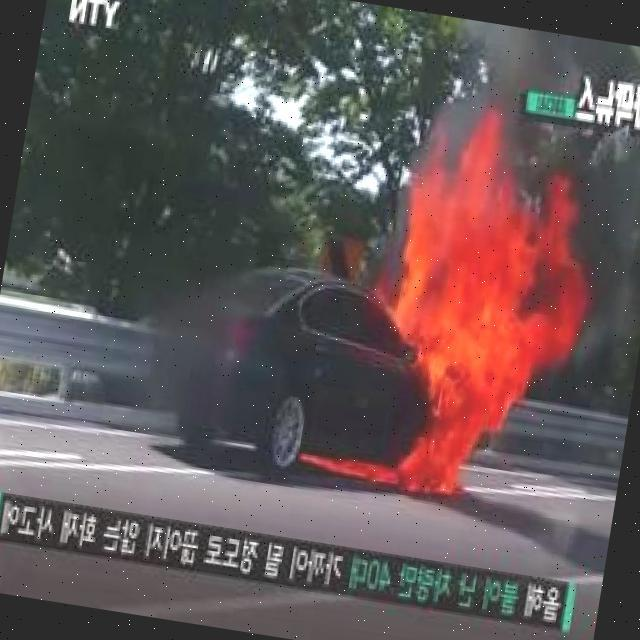Fire: (374, 139, 575, 511)
